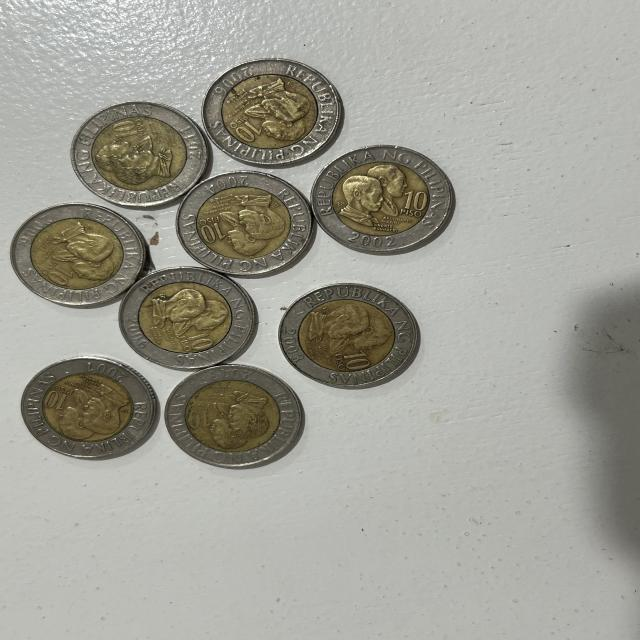10_Old_Front: (192, 212, 235, 248), (181, 399, 219, 437), (394, 187, 431, 225), (328, 349, 375, 377), (174, 330, 223, 356), (34, 258, 77, 286), (103, 119, 151, 142), (42, 385, 75, 415), (225, 114, 259, 142)
